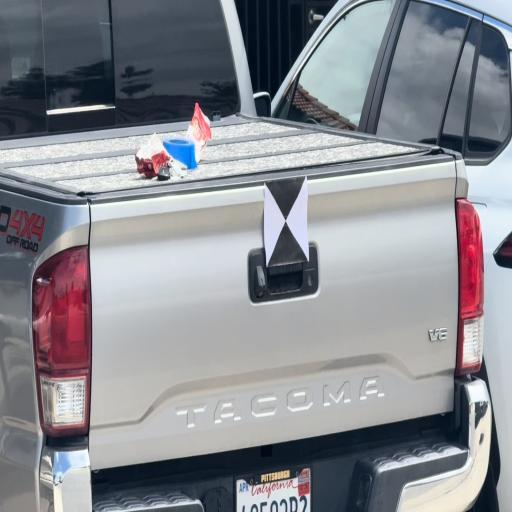target: (264, 175, 310, 267)
